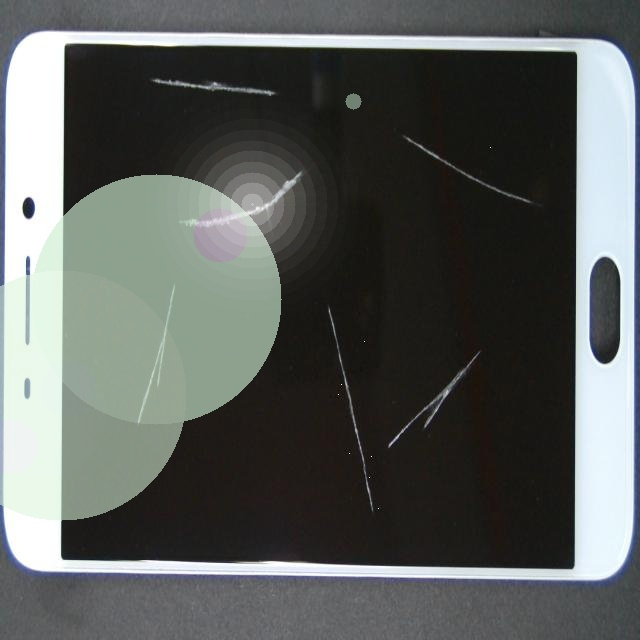scratch: (133, 28, 504, 565), (117, 29, 640, 252), (83, 119, 252, 356)
